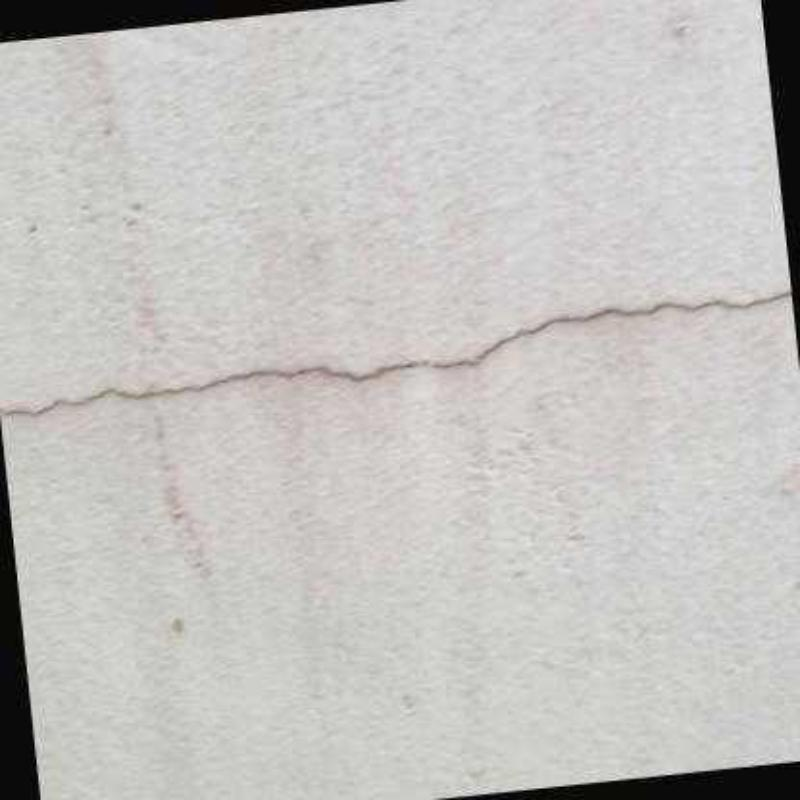crack: (2, 292, 793, 416)
